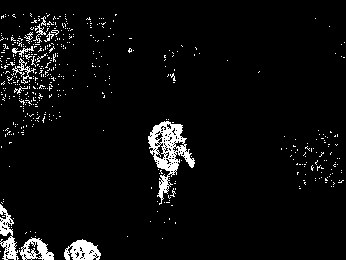person: (136, 113, 199, 221)
